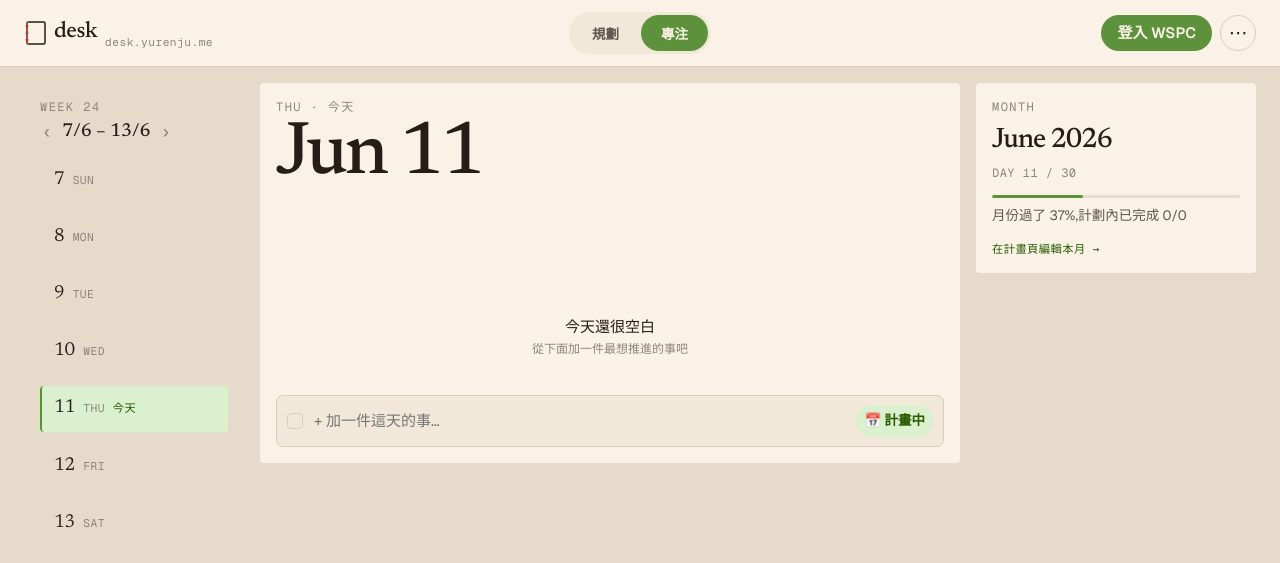
Test case: shows 回今天 once the rail is paged away even while the focus day is today
expect the link "回今天" is not shown: met
Click the button named "上一週": click(47, 132) x1=40 y1=118 x2=54 y2=146
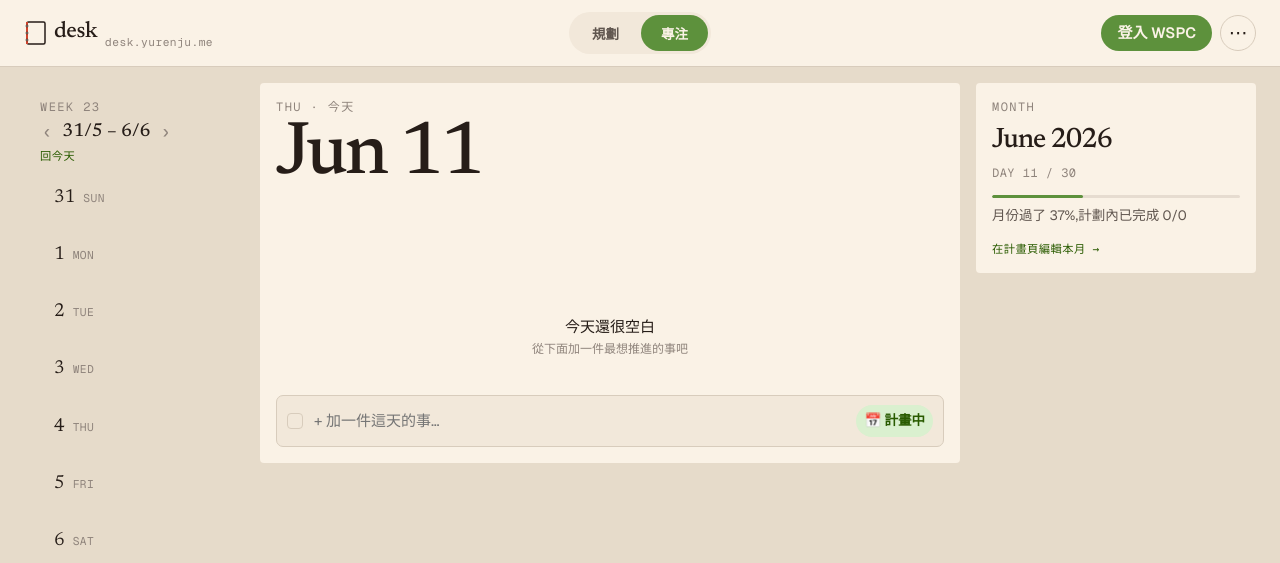
Note: Rail is off today's week, so the reset escape hatch appears.
Click the link "回今天": click(58, 156) x1=40 y1=148 x2=75 y2=164
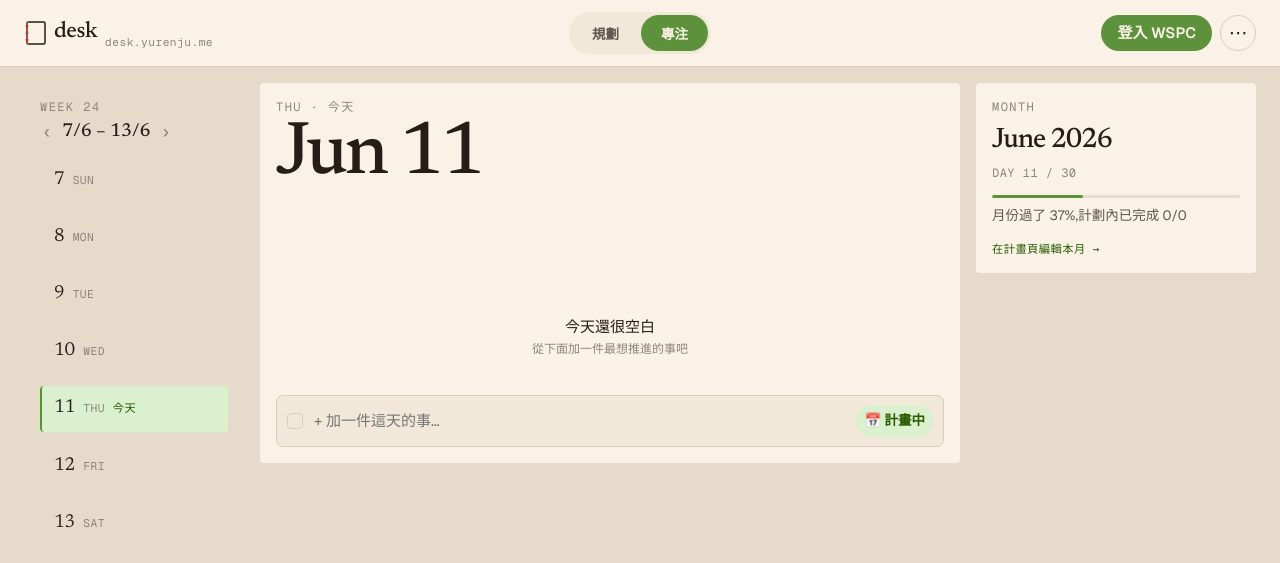
expect the link with aria-label "切到 2026-06-11" is shown: met, box x1=40 y1=386 x2=228 y2=432
